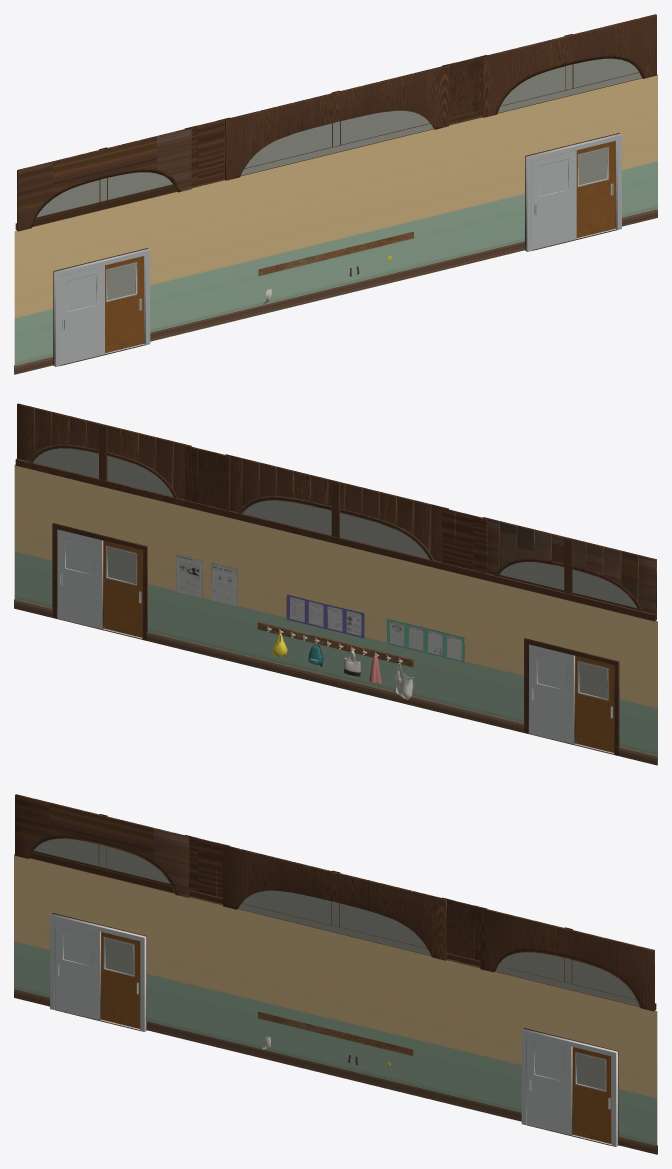
File: a_sch_class1a_hallwaywall01.gltf
3 renders of one model, top to bottom at view 1: azimuth 30°, elevation 25°; view 2: azimuth 150°, elevation 25°; view 3: azimuth 330°, elevation 25°, orthographic.
Visible parts, largest first — view 1: um_a_sch_class1a_hallwaywall01_model_a_sch_class1a_hallwaywa (×5); view 2: um_a_sch_class1a_hallwaywall01_model_a_sch_class1a_hallwaywa (×6); view 3: um_a_sch_class1a_hallwaywall01_model_a_sch_class1a_hallwaywa (×5).
Boxes of the visible parts, x1,y1,x2,y2 form: um_a_sch_class1a_hallwaywall01_model_a_sch_class1a_hallwaywa (×5): [14, 14, 657, 374]; um_a_sch_class1a_hallwaywall01_model_a_sch_class1a_hallwaywa (×6): [14, 403, 657, 765]; um_a_sch_class1a_hallwaywall01_model_a_sch_class1a_hallwaywa (×5): [14, 794, 657, 1154].
Bounding box in the file's own units: 15 × 4.55 × 0.3971.
Materials: 6 (6 with a texture image).
